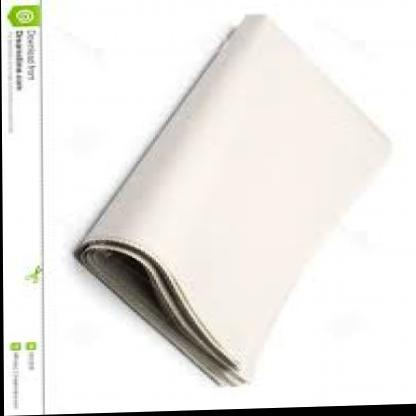Paper: (56, 2, 379, 406)
